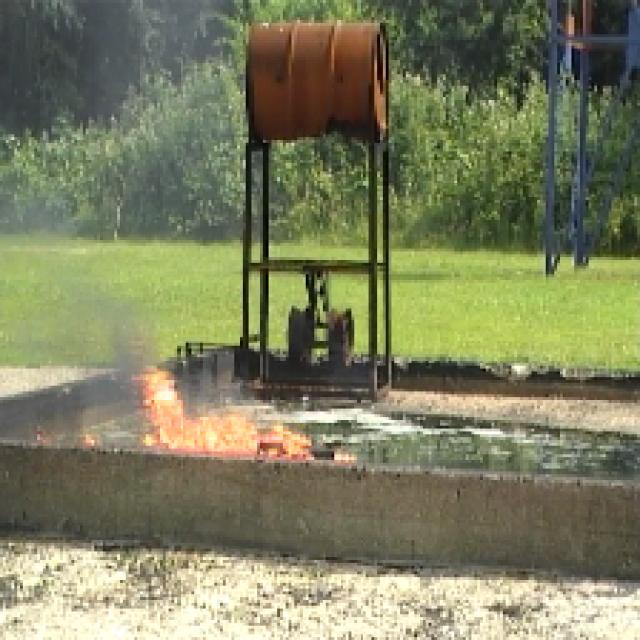fire: (150, 384, 268, 459)
